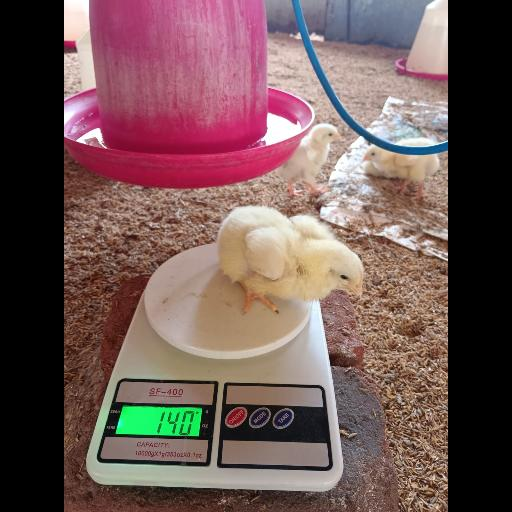chick: (216, 205, 364, 313)
